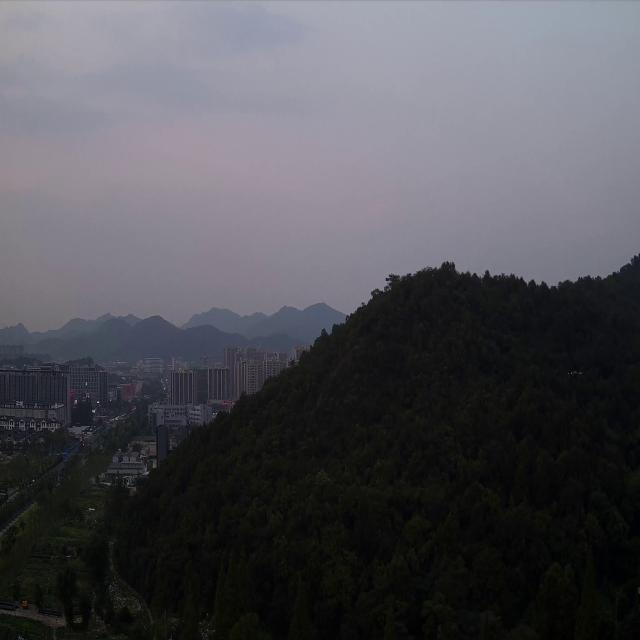UAV: (566, 368, 584, 378)
